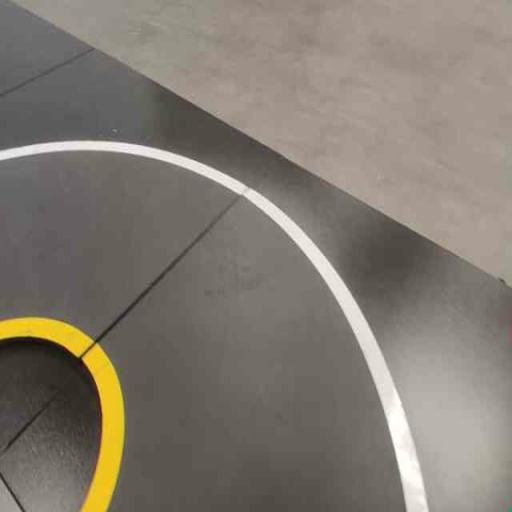left: (71, 170, 457, 511)
